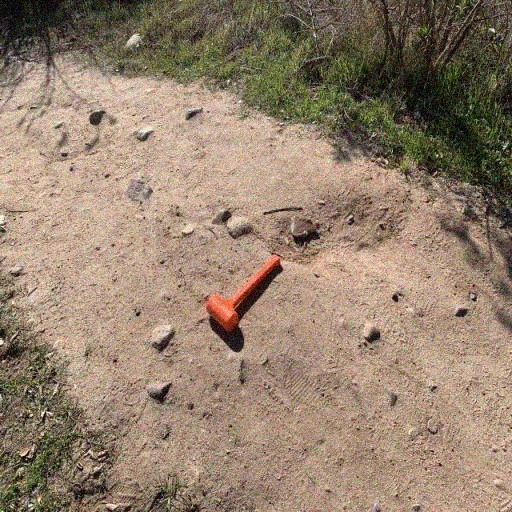mallet: (206, 254, 281, 332)
